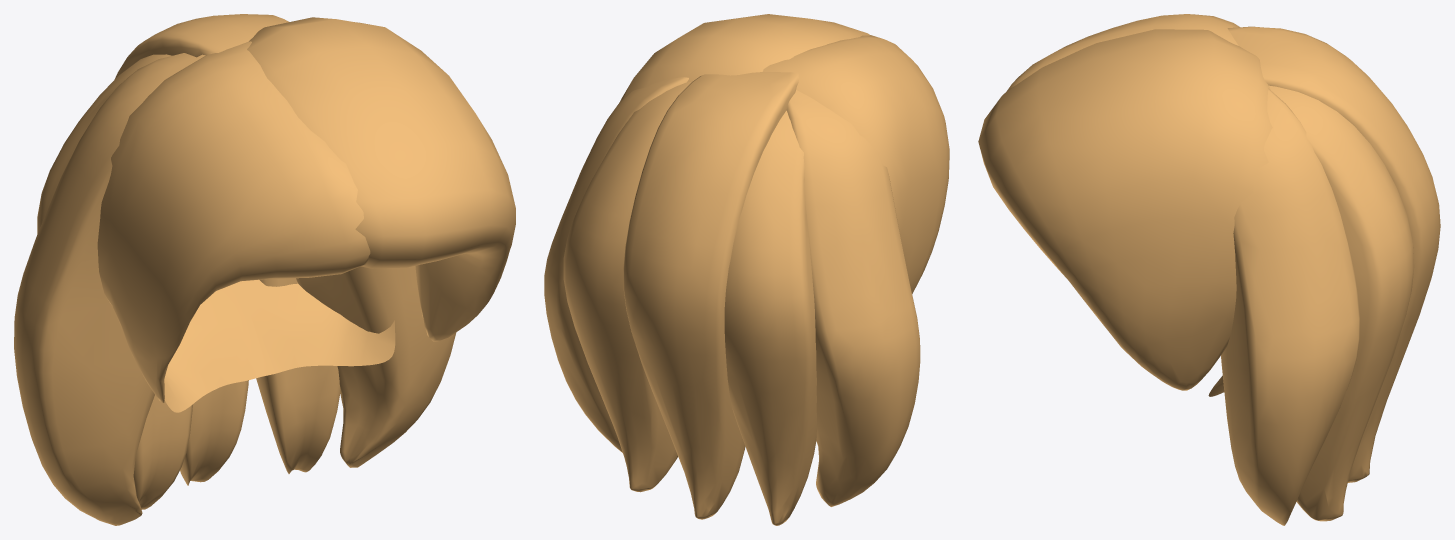
Rendered from hair-007-5a395f7f.glb.
The picture shows the model from 3 angles, left to right: view 1: azimuth 30°, elevation 25°; view 2: azimuth 150°, elevation 25°; view 3: azimuth 270°, elevation 25°; orthographic projection. The views are drawn at different scales.
Visible parts, largest first — view 1: Geo_Female_White_Hair.011; view 2: Geo_Female_White_Hair.011; view 3: Geo_Female_White_Hair.011.
Part boxes in pixels (x1,y1,x2,y2): Geo_Female_White_Hair.011: (14, 14, 515, 525); Geo_Female_White_Hair.011: (544, 14, 949, 525); Geo_Female_White_Hair.011: (978, 14, 1440, 525).
Size of the model in its own units: 2.06 by 2.33 by 2.17.
